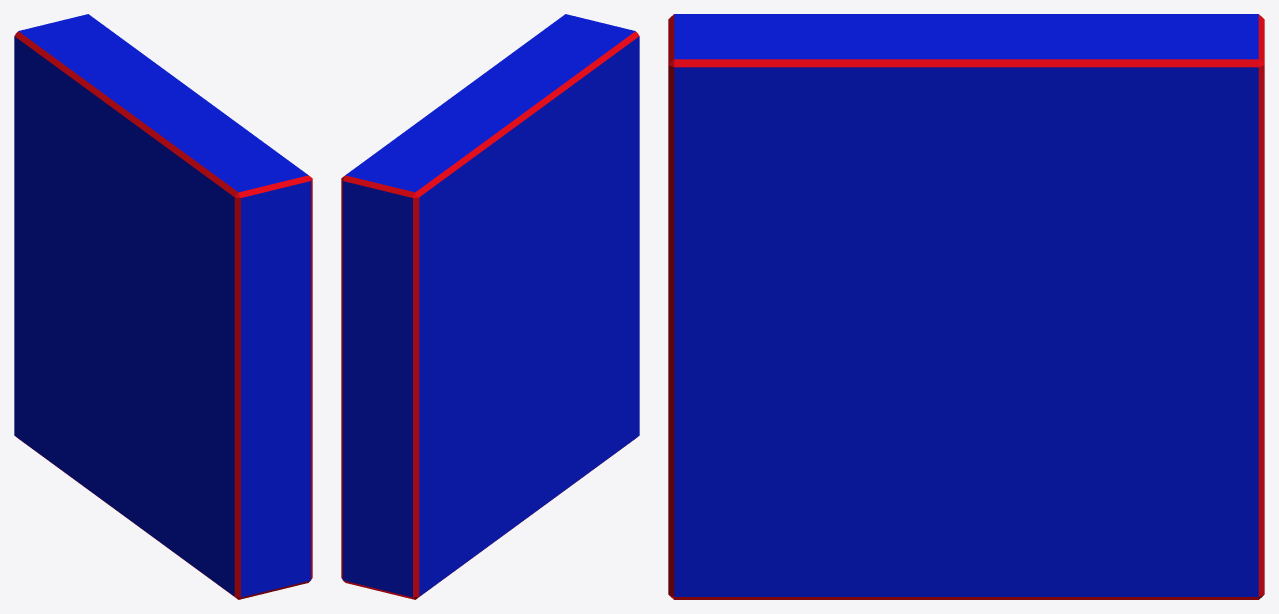
Rendered from L5_Door_5U.fbx.
3 renders of one model, left to right at view 1: azimuth 30°, elevation 25°; view 2: azimuth 150°, elevation 25°; view 3: azimuth 270°, elevation 25°, orthographic. The views are drawn at different scales.
Visible parts, largest first — view 1: L5_Door_5U; view 2: L5_Door_5U; view 3: L5_Door_5U.
Part boxes in pixels (x1,y1,x2,y2): L5_Door_5U: (14, 14, 312, 599); L5_Door_5U: (341, 14, 639, 599); L5_Door_5U: (668, 14, 1264, 599).
Size of the model in its own units: 100 by 500 by 500.
